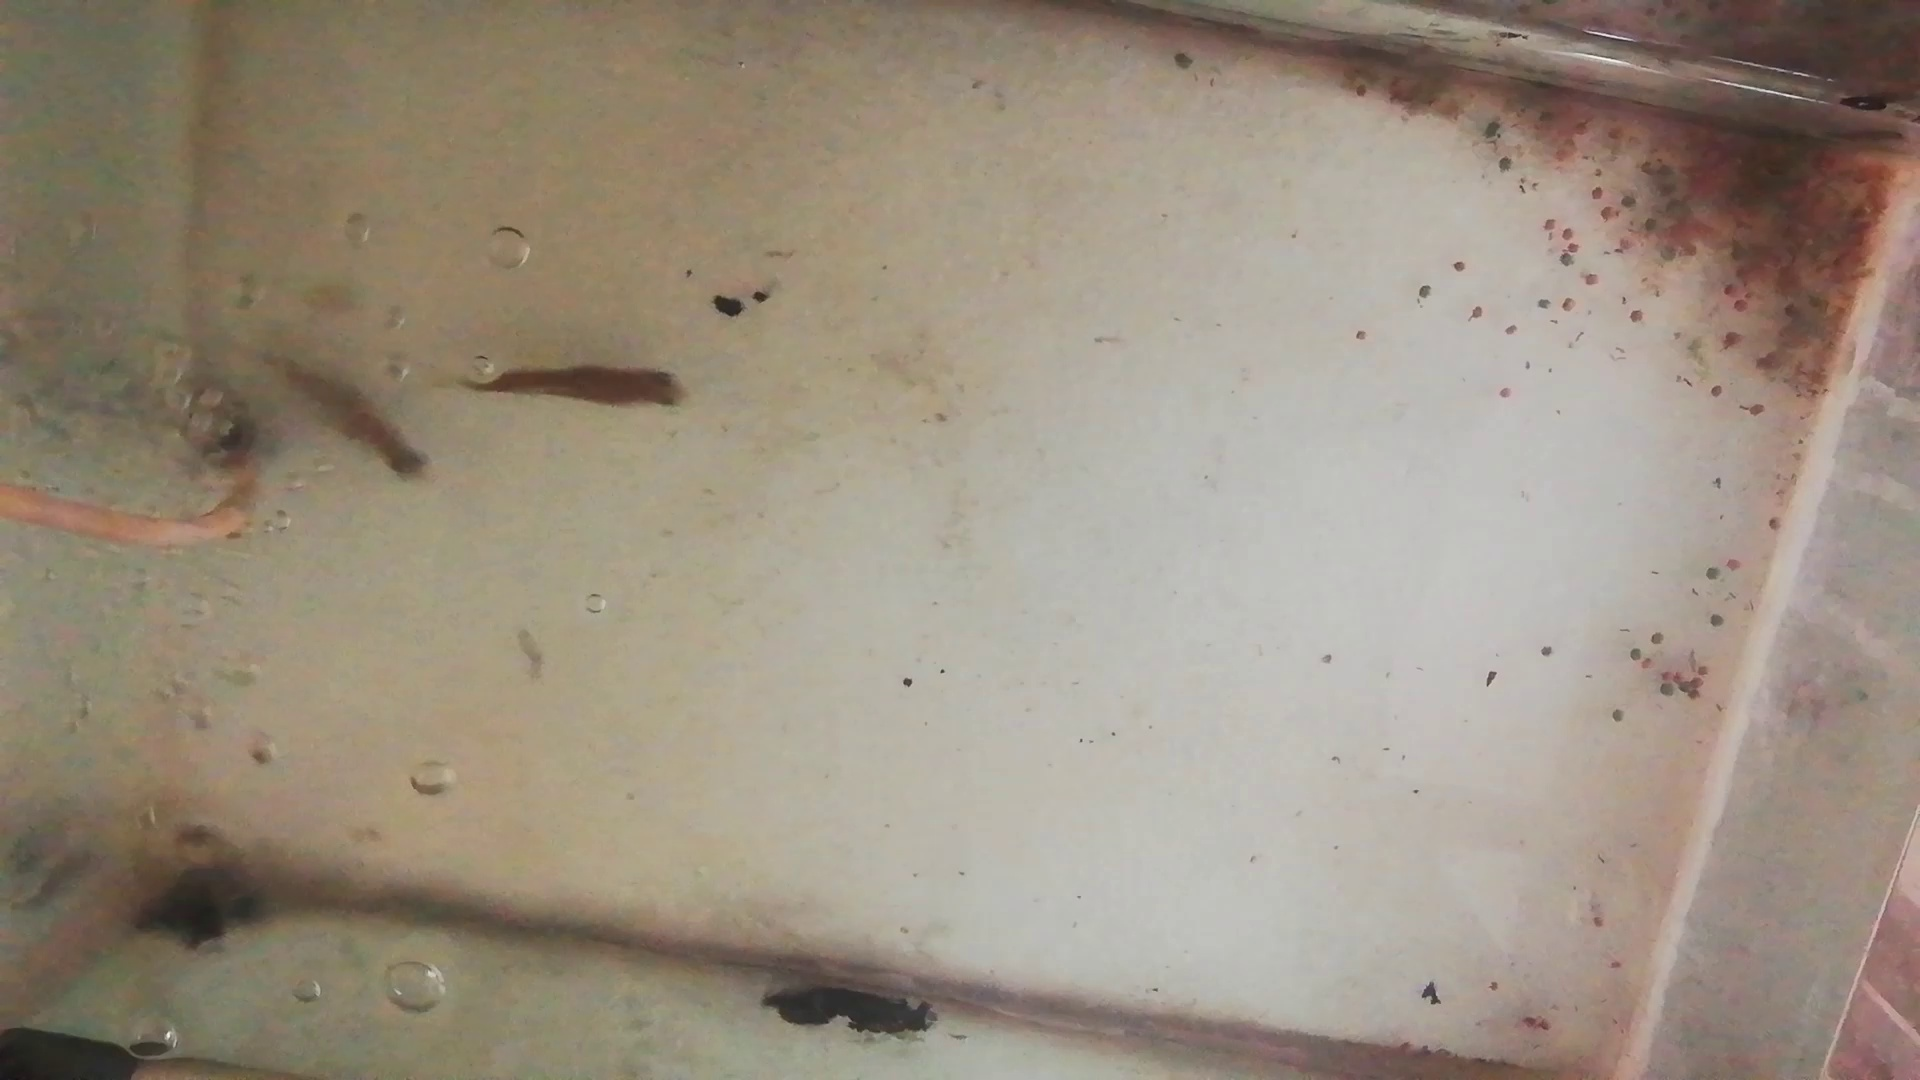fish: (255, 349, 427, 487), (458, 363, 692, 411)
